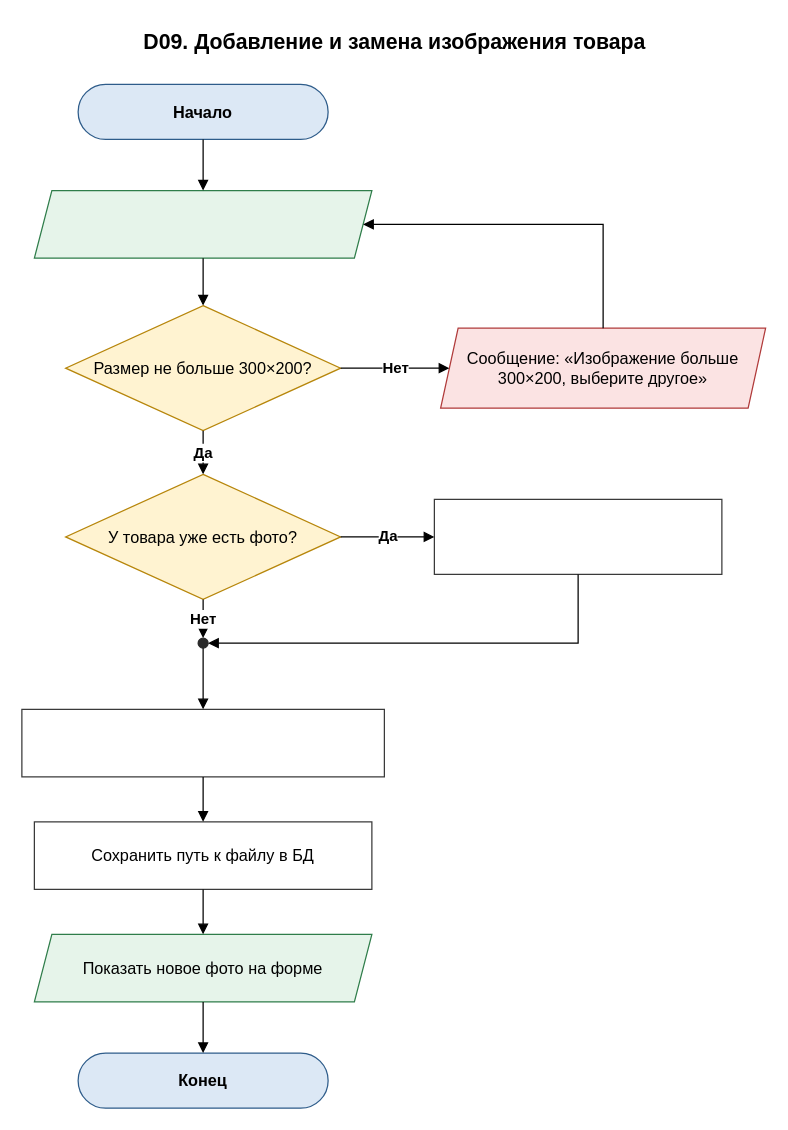
This 788x1130 diagram has some shape labels left out. The shapes that lost their labels are listed below. From the top down, each one's centre as x and y in pixels, then its label:
At (202,223): "Выбрать файл изображения".
At (577,536): "Удалить старый файл из папки приложения".
At (202,742): "Скопировать новый файл в папку приложения".
